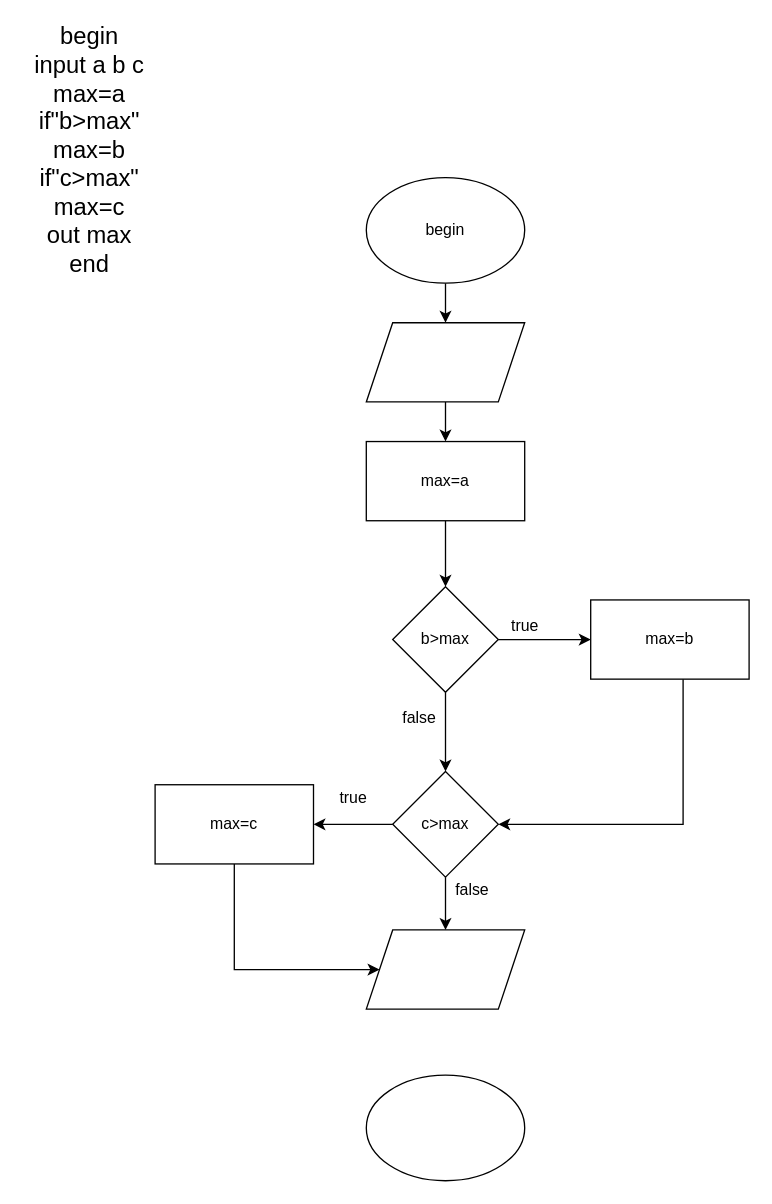
Image size: 772x1204. Some labels were removed from this diagram. Each missing label, with the box of its shape:
end: (365, 1074, 525, 1181)
nhap a b c: (365, 321, 525, 402)
out max: (365, 929, 525, 1009)
